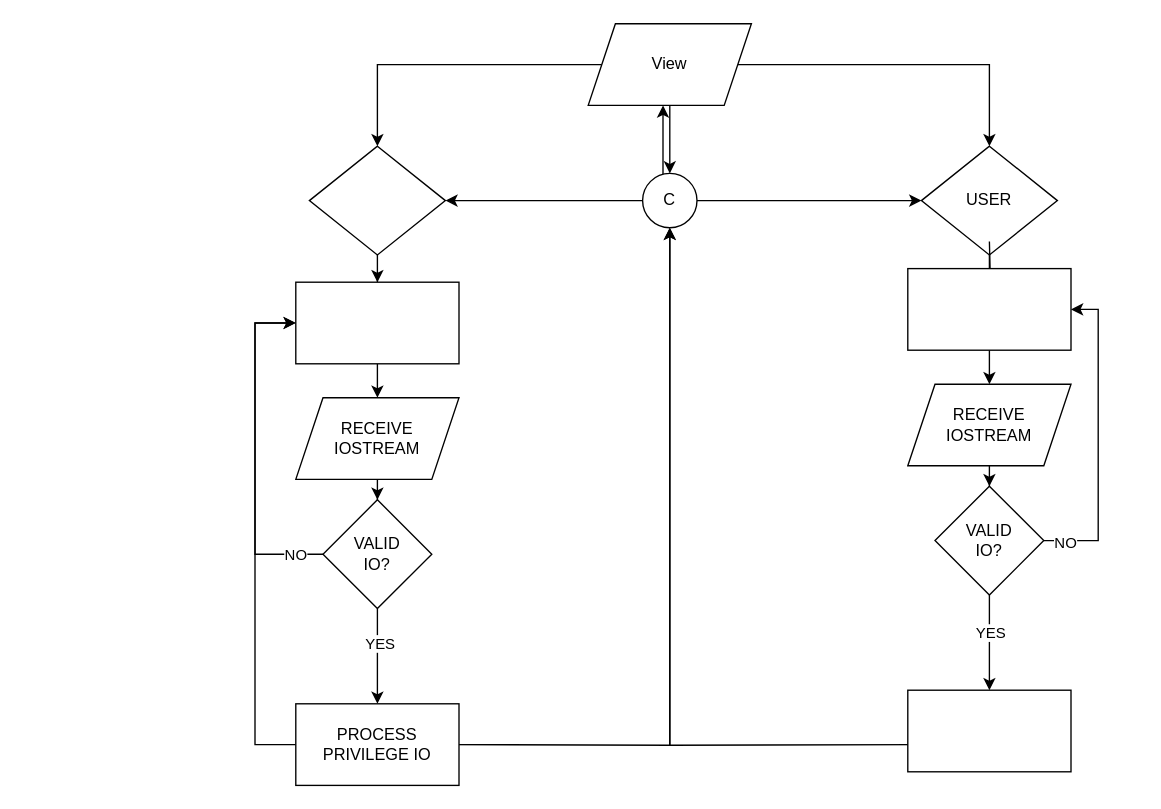
Some shapes in this 1161 by 809 pixel diagram are drawn without their labels. The shapes that lost their labels are listed below. From the top down, each one's centre as x and y in pixels, then its label:
the point at 376,200: ADMIN?
the point at 376,322: SHOW ADMIN UI
the point at 988,308: SHOW USER UI
the point at 988,730: PROCESS USER IO
